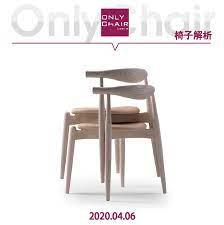chair: (50, 54, 176, 203)
